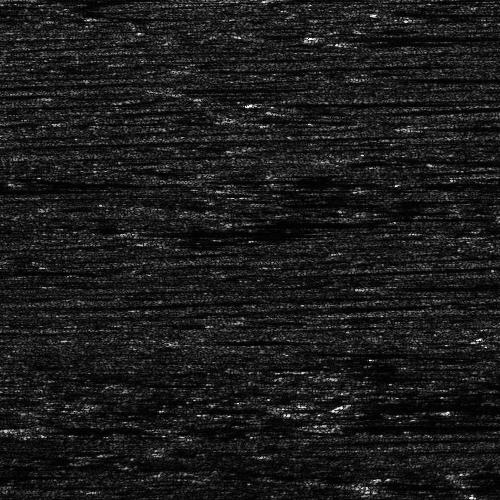rock: (0, 424, 67, 433), (0, 480, 39, 487), (323, 422, 354, 427)
shadow: (31, 424, 144, 433), (0, 480, 115, 487), (339, 422, 500, 427), (0, 2, 50, 7)
